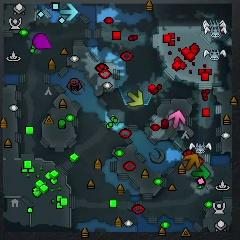p3: (33, 32, 52, 50)
x1: (167, 111, 186, 128)
x2: (125, 90, 144, 108)
x3: (59, 3, 78, 21)
x4: (190, 165, 211, 180)
x5: (182, 154, 200, 169)
